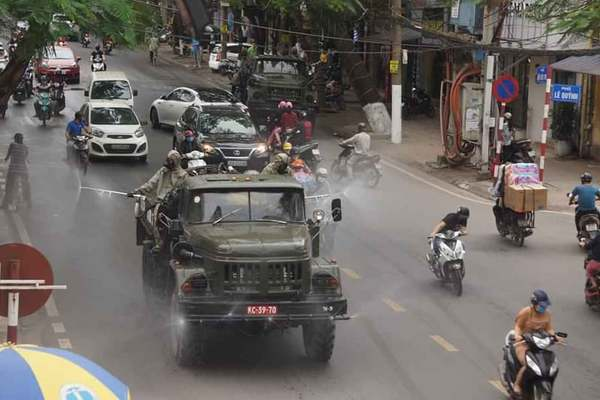plate: (243, 301, 281, 315), (224, 158, 249, 167), (516, 218, 533, 227), (109, 143, 133, 149), (585, 223, 599, 232), (374, 162, 384, 169), (311, 149, 321, 155)
